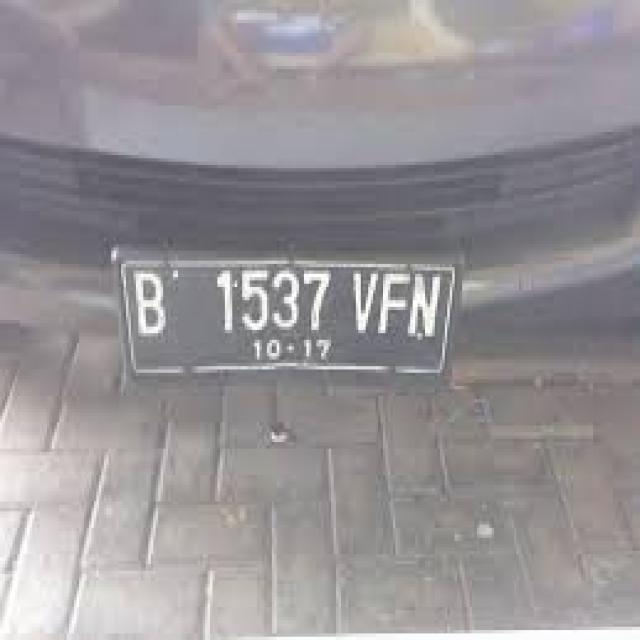license-plat: (120, 245, 464, 392)
